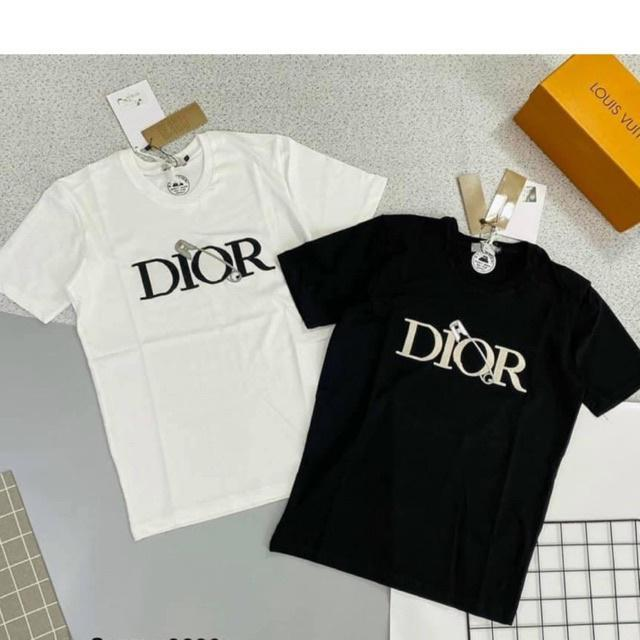Shirt: (0, 129, 394, 543), (265, 211, 639, 630)
